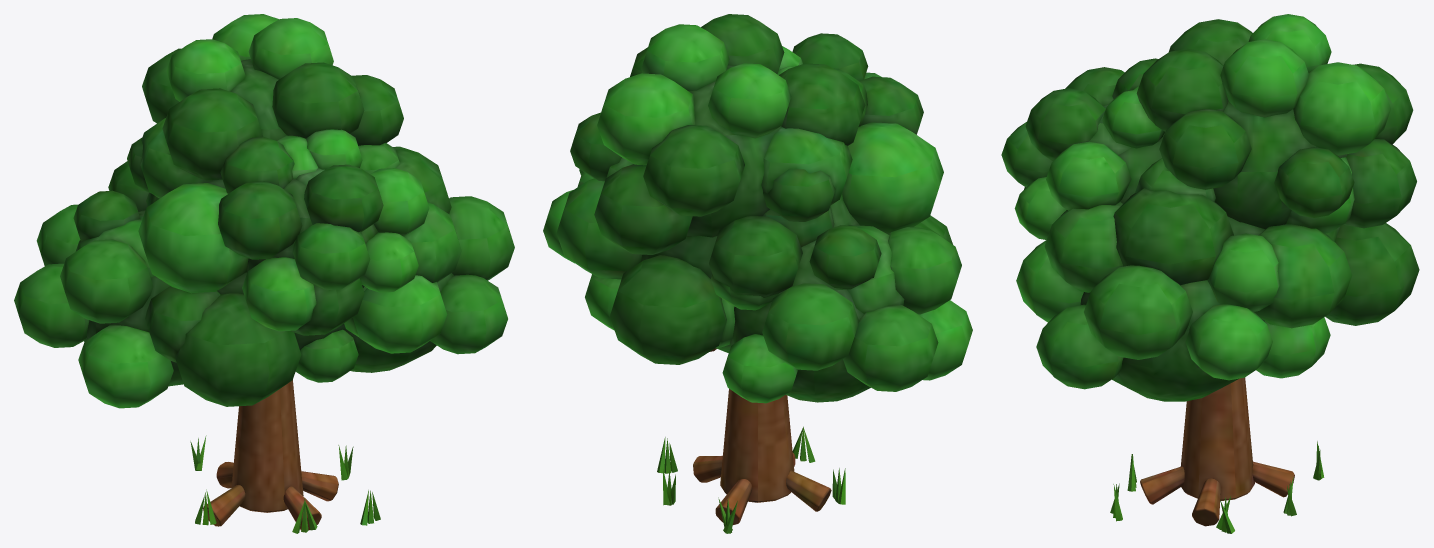
The model's file is mulberry_tree.glb.
3 views of the same model, side by side, from view 1: azimuth 30°, elevation 25°; view 2: azimuth 150°, elevation 25°; view 3: azimuth 270°, elevation 25° (orthographic). The views are drawn at different scales.
Parts seen in each view (by area): view 1: crown, mulberry_tree; view 2: crown, mulberry_tree; view 3: crown, mulberry_tree.
Part boxes in pixels (<box>): crown: <box>14,14,514,408</box>; mulberry_tree: <box>190,380,380,533</box>; crown: <box>543,14,972,403</box>; mulberry_tree: <box>657,348,845,533</box>; crown: <box>1001,14,1419,401</box>; mulberry_tree: <box>1110,377,1324,533</box>.
Bounding box in the file's own units: 1.17 × 1.24 × 0.9856.
1 material, 1 textured.
